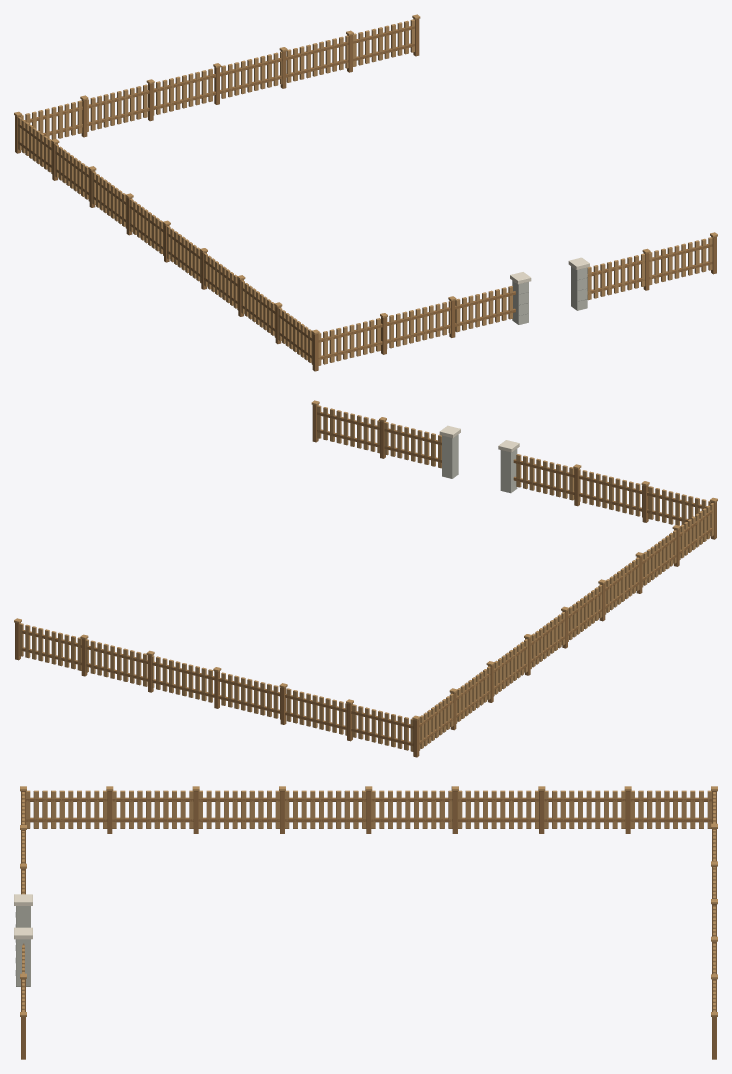
Rendered from SM_PlayerHouse_Fence.fbx.
The picture shows the model from 3 angles, top to bottom: view 1: azimuth 30°, elevation 25°; view 2: azimuth 150°, elevation 25°; view 3: azimuth 270°, elevation 25°; orthographic projection. The views are drawn at different scales.
Parts seen in each view (by area): view 1: SM_PlayerHouse_Fence; view 2: SM_PlayerHouse_Fence; view 3: SM_PlayerHouse_Fence.
Boxes of the visible parts, box(x1,y1,x2,y2) form: SM_PlayerHouse_Fence: box(14, 14, 717, 371); SM_PlayerHouse_Fence: box(14, 400, 717, 757); SM_PlayerHouse_Fence: box(14, 786, 717, 1059).
Size of what is drawn, in the model's own units: 1378 by 1793 by 148.
